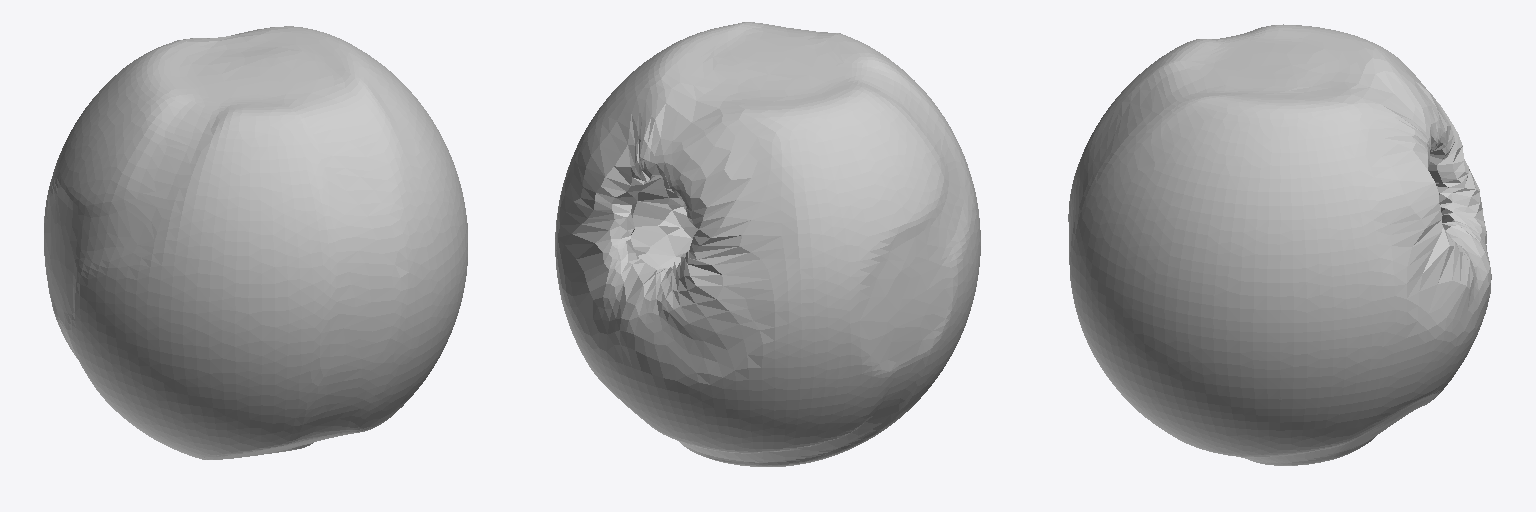
Rendered from planete2.obj.
The picture shows the model from 3 angles: view 1: azimuth 30°, elevation 25°; view 2: azimuth 150°, elevation 25°; view 3: azimuth 270°, elevation 25°; orthographic projection.
Parts seen in each view (by area): view 1: PlaneteNeige_Sphere; view 2: PlaneteNeige_Sphere; view 3: PlaneteNeige_Sphere.
Part boxes in pixels (x1,y1,x2,y2): PlaneteNeige_Sphere: (44,26,467,459); PlaneteNeige_Sphere: (555,22,980,466); PlaneteNeige_Sphere: (1068,24,1491,465).
Size of the model in its own units: 1 by 1 by 1.